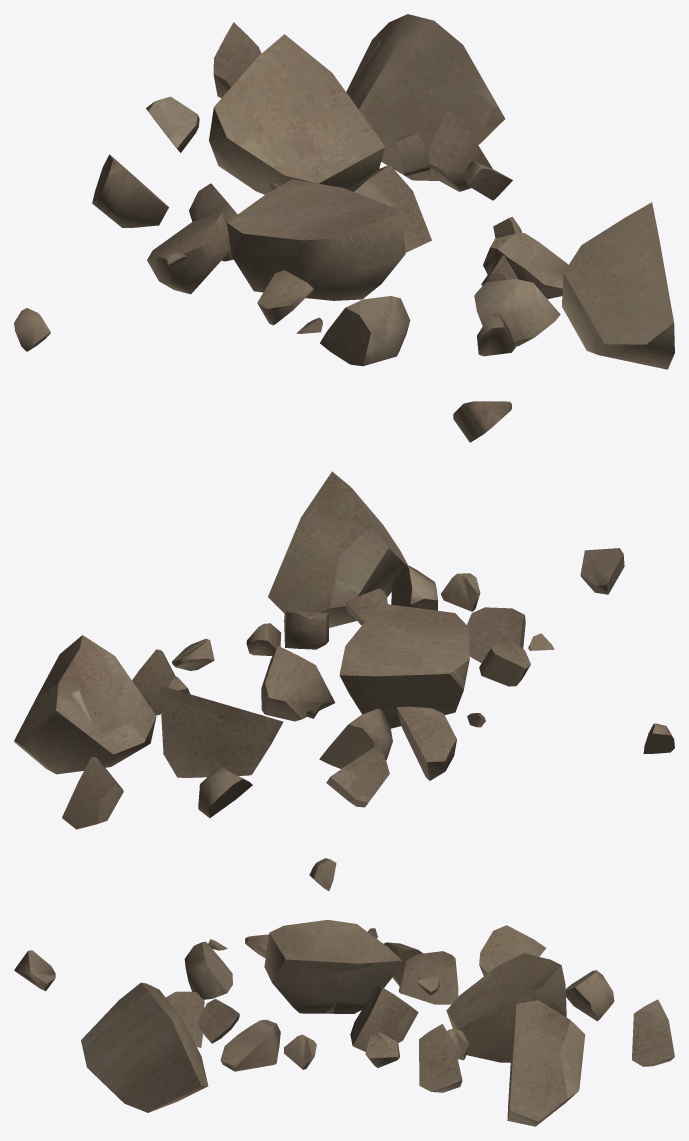
3 views of the same model, one above another, from view 1: azimuth 30°, elevation 25°; view 2: azimuth 150°, elevation 25°; view 3: azimuth 270°, elevation 25° (orthographic). The views are drawn at different scales.
Visible parts, largest first — view 1: body0_model0_lod0_mesh0; view 2: body0_model0_lod0_mesh0; view 3: body0_model0_lod0_mesh0.
Part boxes in pixels (x1=…): body0_model0_lod0_mesh0: x1=14, y1=14, x2=674, y2=442; body0_model0_lod0_mesh0: x1=14, y1=471, x2=674, y2=829; body0_model0_lod0_mesh0: x1=14, y1=858, x2=674, y2=1126.
Size of the model in its own units: 199 by 51.82 by 248.
1 material, 1 textured.
